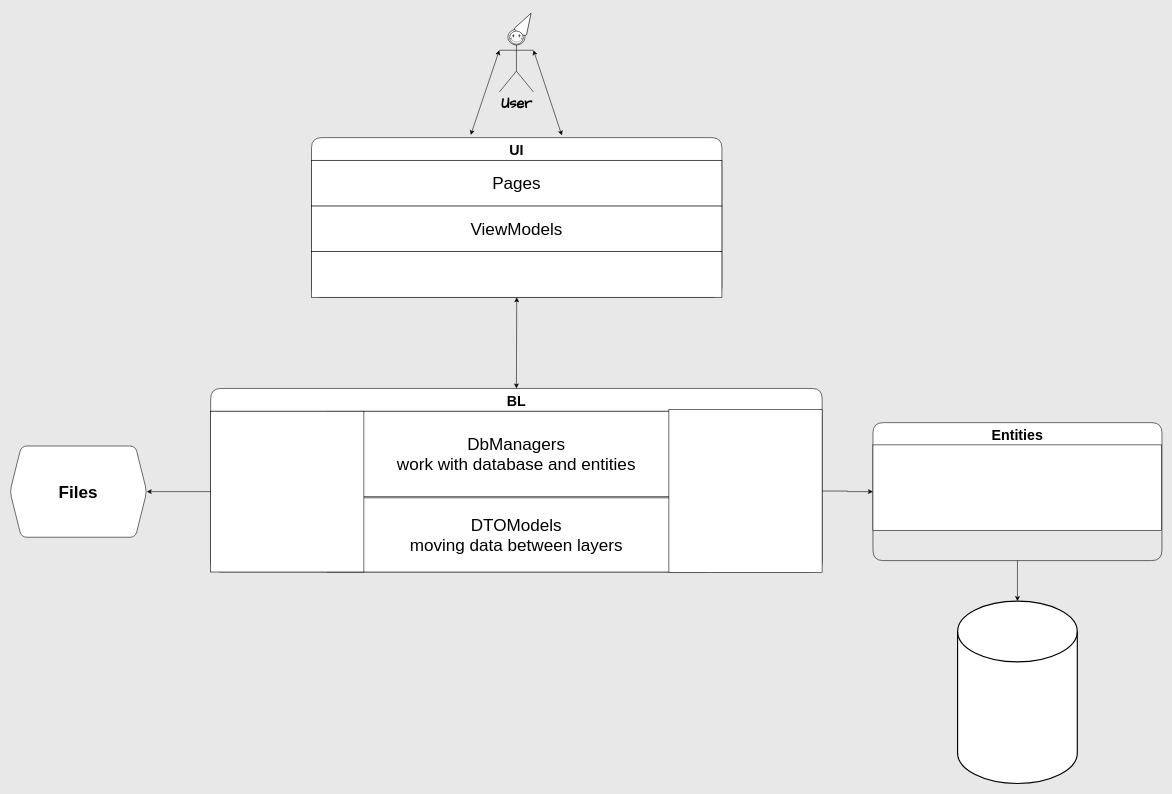
This 1172x794 diagram has some shape labels left out. The shapes that lost their labels are listed below. From the top down, each one's centre as x and y in pixels, then its label:
At (x=516, y=274): "Controllers".
At (x=287, y=491): "FileManager work with files".
At (x=745, y=491): "NewsSiteContext".
At (x=1016, y=487): "DbModels classes for Entity Framework".
At (x=1017, y=692): "DataBase".
